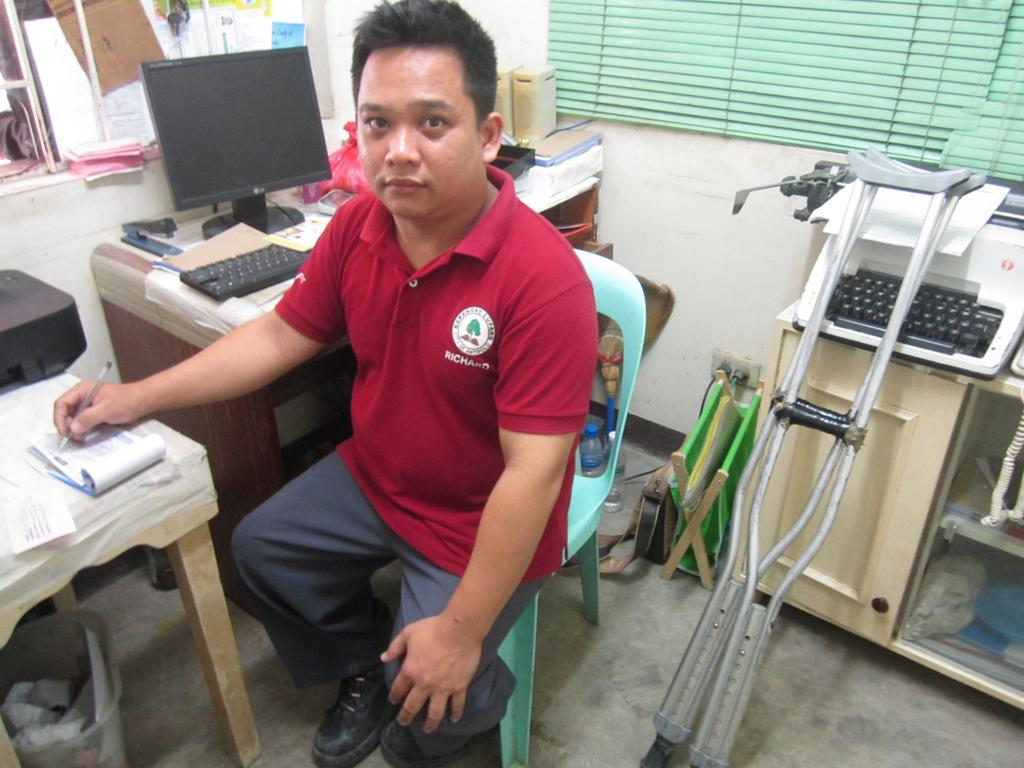face: (357, 43, 473, 217)
